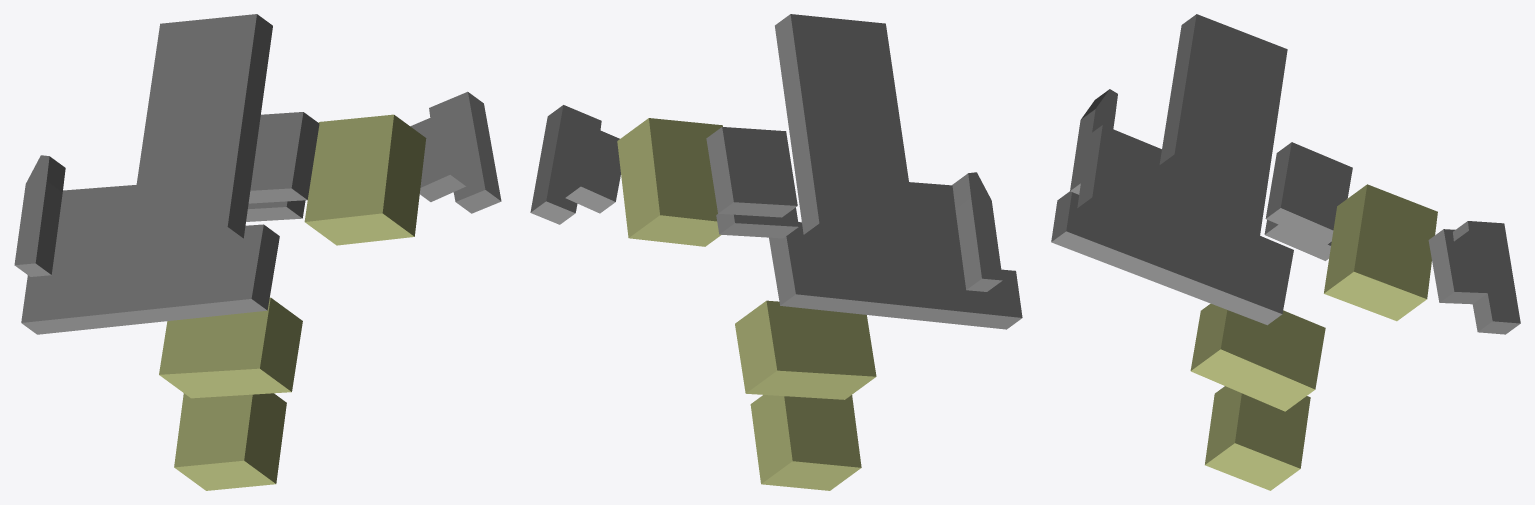
The picture shows the model from 3 angles, left to right: view 1: azimuth 30°, elevation 25°; view 2: azimuth 150°, elevation 25°; view 3: azimuth 330°, elevation 25°; orthographic projection. The views are drawn at different scales.
Visible parts, largest first — view 1: 0_1_2_0_1_3_3_0_1; view 2: 0_1_2_0_1_3_3_0_1; view 3: 0_1_2_0_1_3_3_0_1.
Part boxes in pixels (x1,y1,x2,y2): 0_1_2_0_1_3_3_0_1: (14,14,501,490); 0_1_2_0_1_3_3_0_1: (530,14,1022,490); 0_1_2_0_1_3_3_0_1: (1051,14,1520,490).
Bounding box in the file's own units: 51.1 × 48.45 × 6.35.
